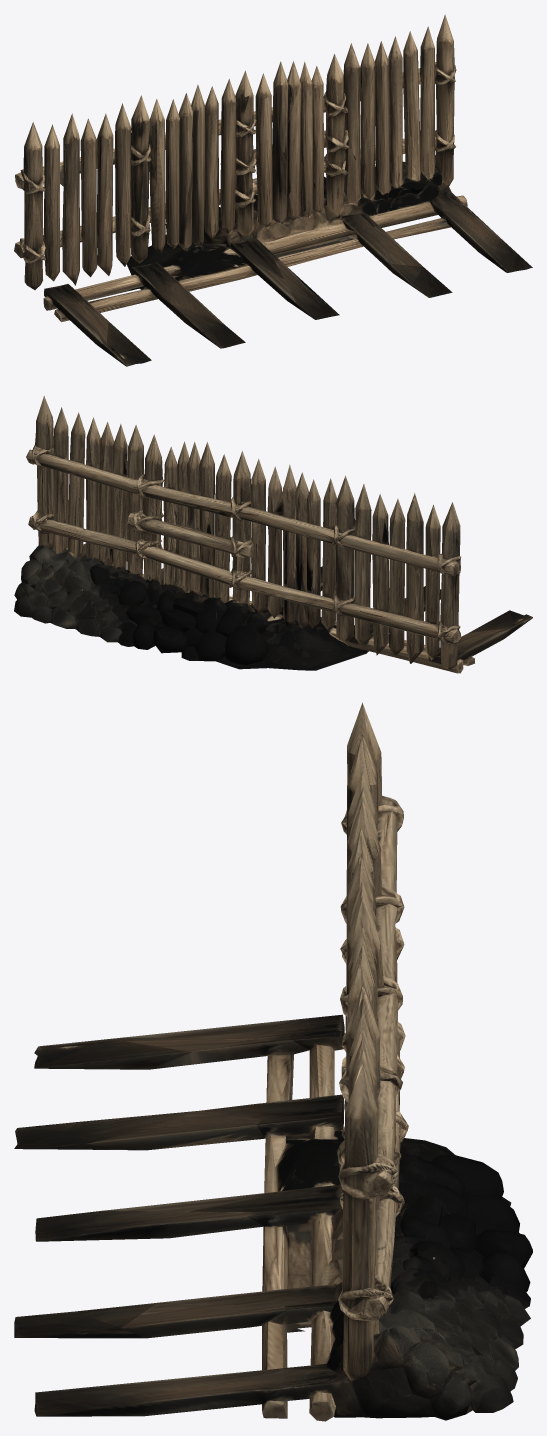
3 views of the same model, one above another, from view 1: azimuth 30°, elevation 25°; view 2: azimuth 150°, elevation 25°; view 3: azimuth 270°, elevation 25° (orthographic). The views are drawn at different scales.
Visible parts, largest first — view 1: palisade_wall; view 2: palisade_wall; view 3: palisade_wall.
Boxes of the visible parts, x1,y1,x2,y2 form: palisade_wall: (14,14,532,366); palisade_wall: (14,396,532,673); palisade_wall: (14,702,532,1421).
Size of the model in its own units: 1.9 by 0.7948 by 1.06.
Materials: 1 (1 with a texture image).
